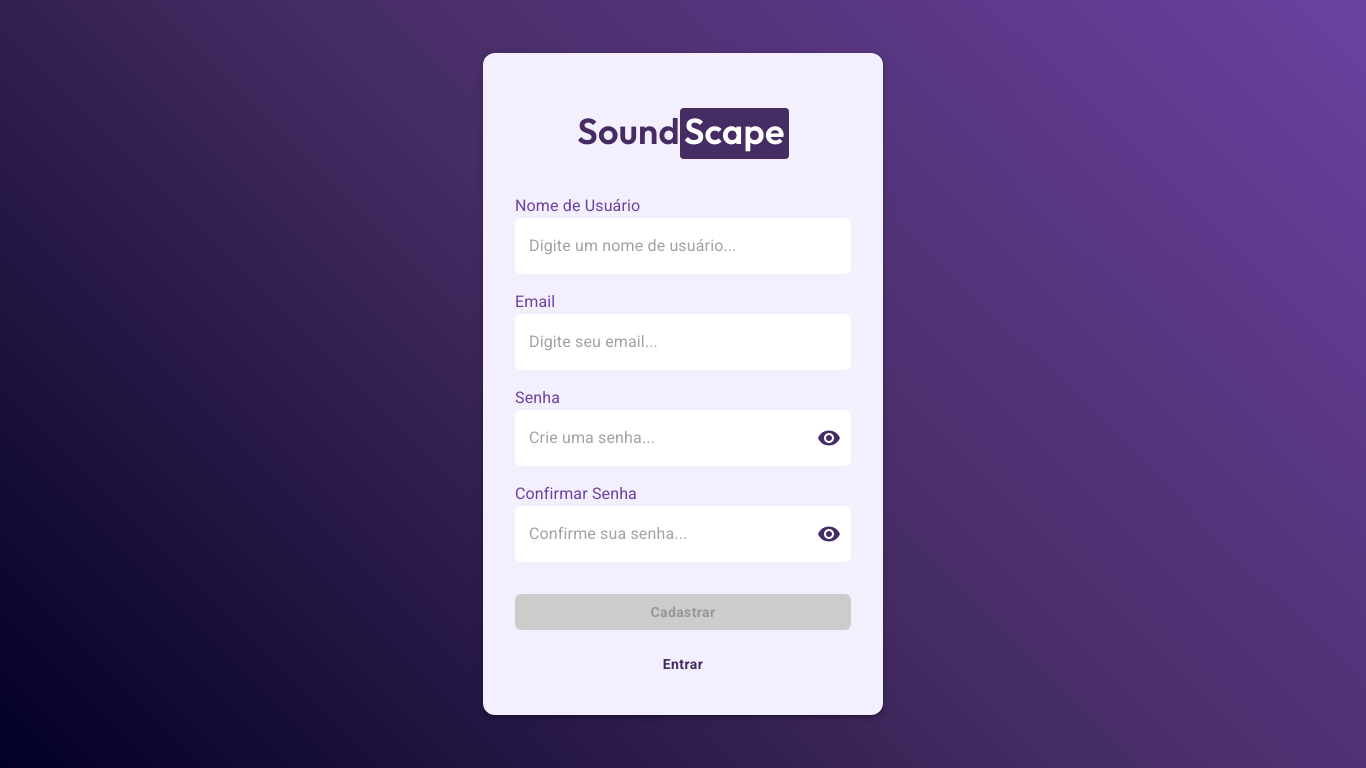
Test: Register Component › deve registrar com sucesso e redirecionar para a página de login
Type "user" into the field with placeholder "Digite um nome de usuário..." at [683, 246], box [515,218,851,274]
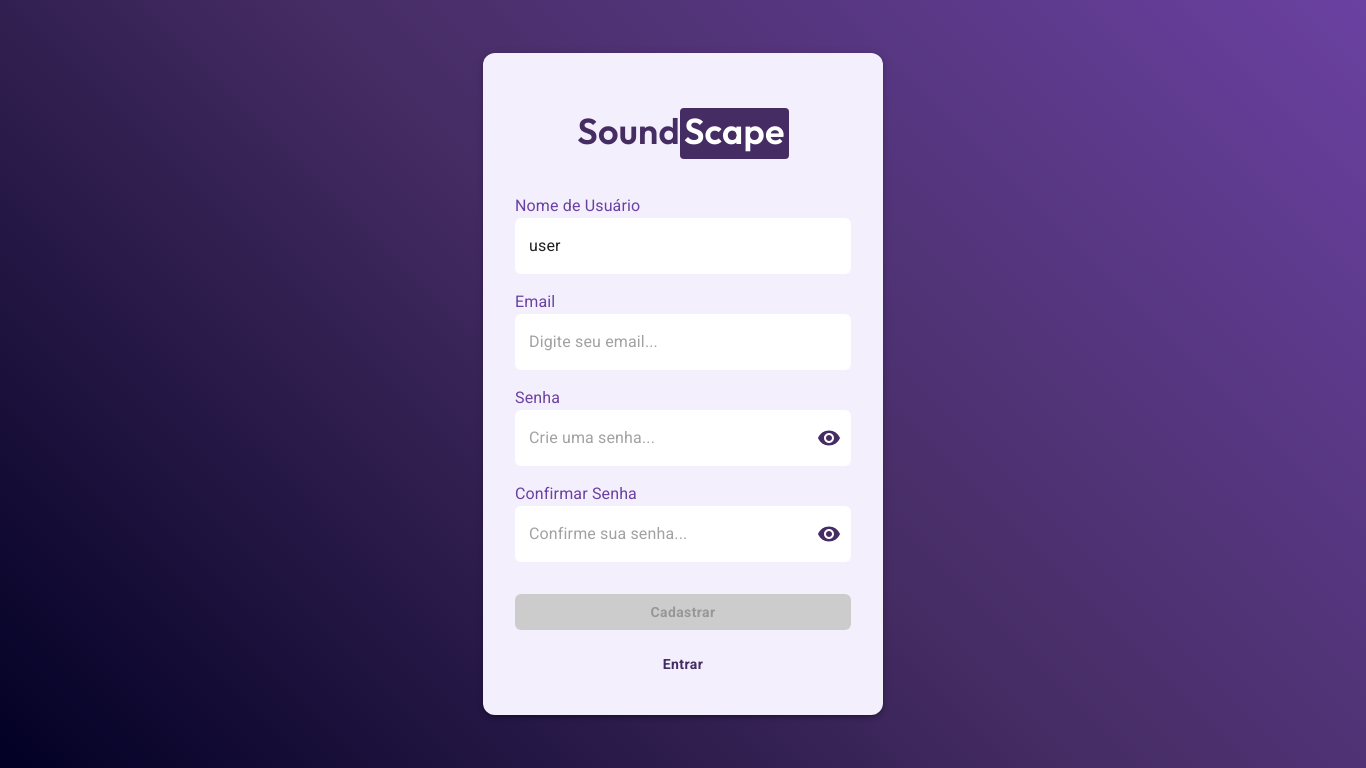
Type "user@example.com" into the field with placeholder "Digite seu email..." at [683, 342], box [515,314,851,370]
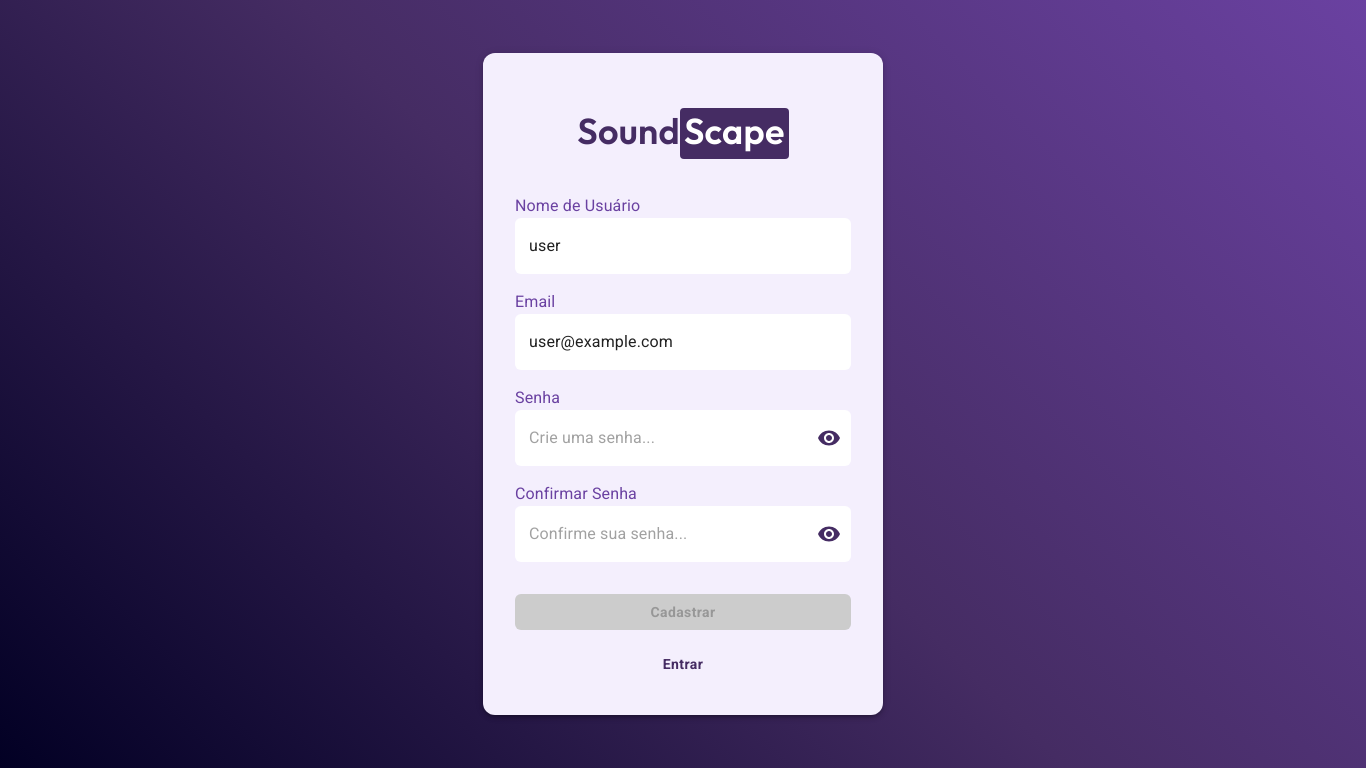
Type "Password123!" into the password field with placeholder "Crie uma senha..." at [658, 438], box [515,410,801,466]
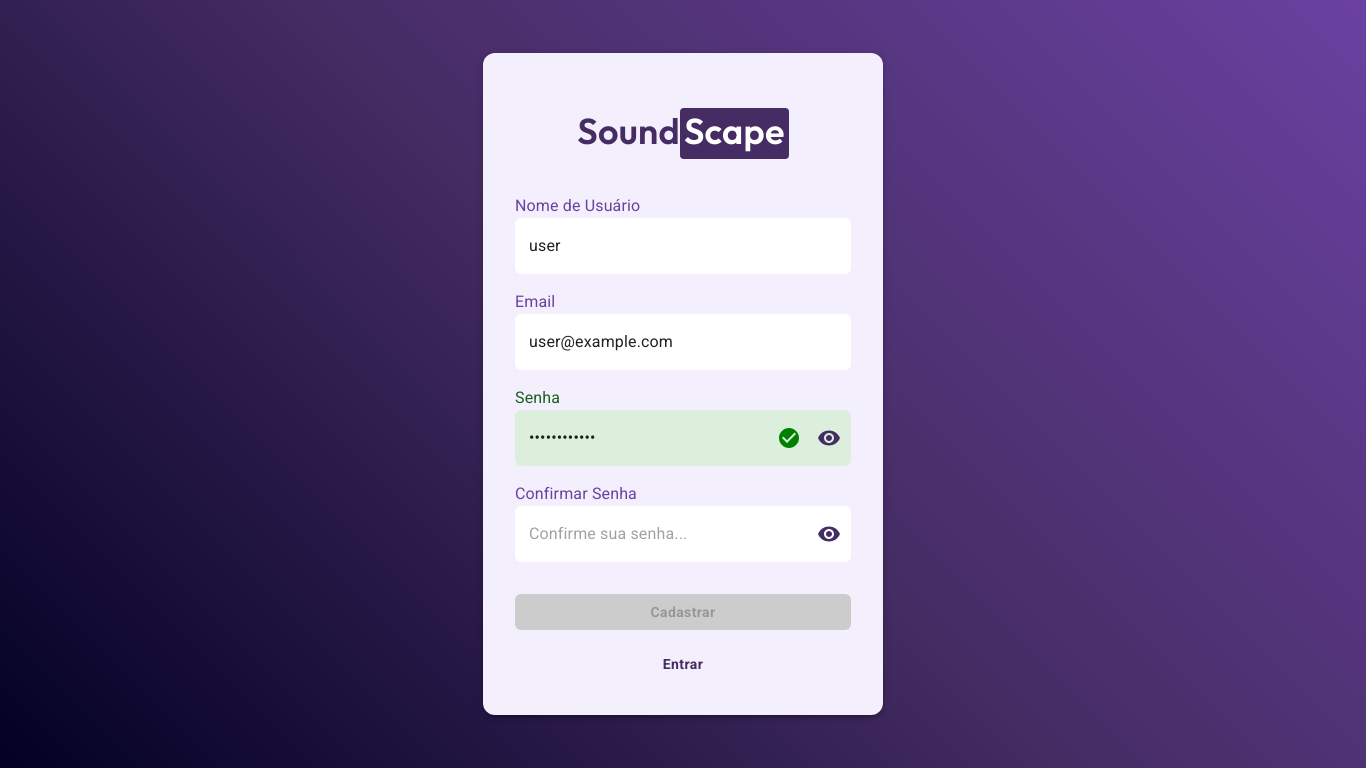
Type "Password123!" into the password field with placeholder "Confirme sua senha..." at [658, 534], box [515,506,801,562]
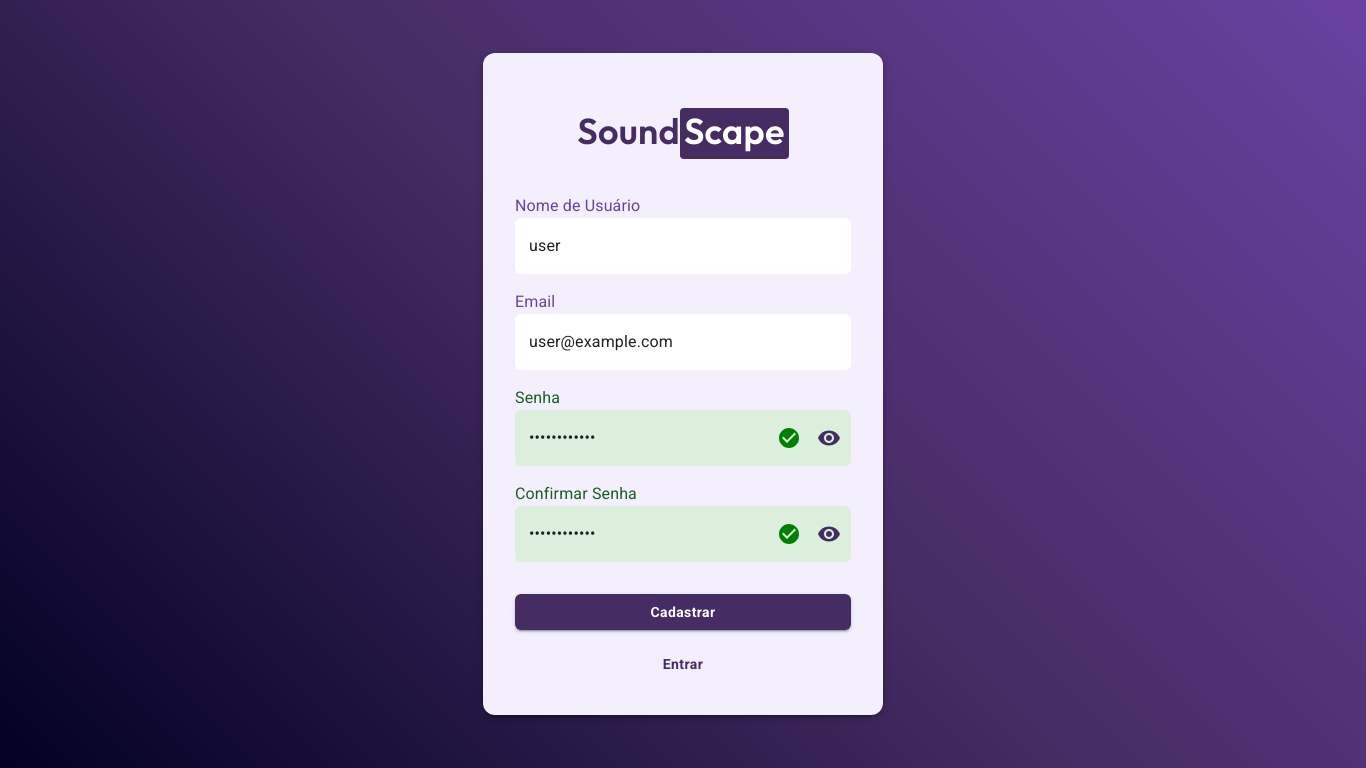
Click the button "Cadastrar" at [683, 612], box [515,594,851,630]
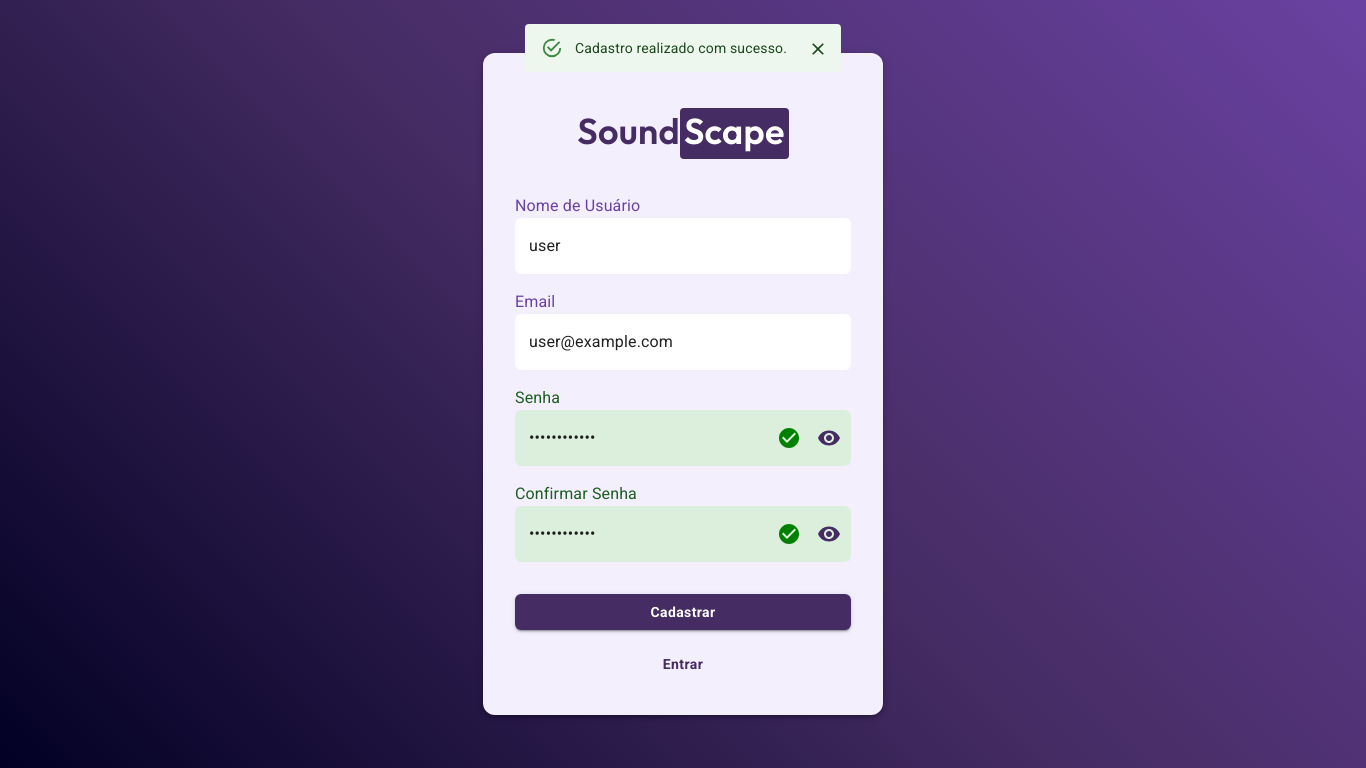
Check: the text "Cadastro realizado com sucesso." is shown, box [575,40,787,56]
